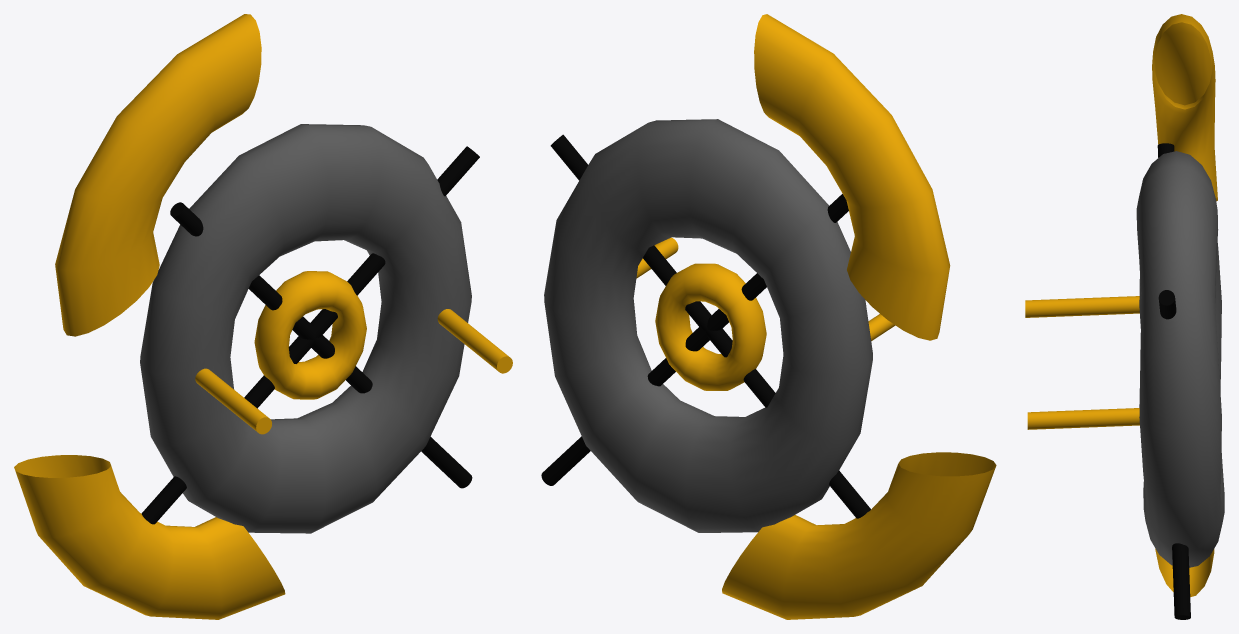
3 renders of one model, left to right at view 1: azimuth 30°, elevation 25°; view 2: azimuth 150°, elevation 25°; view 3: azimuth 270°, elevation 25°, orthographic. The views are drawn at different scales.
Visible parts, largest first — view 1: pTorus2, pTorus3, pTorus4, pTorus1, pCylinder2, pCylinder1, polySurface3, polySurface3.001; view 2: pTorus2, pTorus3, pTorus4, pTorus1, pCylinder2, pCylinder1; view 3: pTorus2, pTorus3, polySurface3, polySurface3.001, pCylinder1, pTorus4, pCylinder2.
Part boxes in pixels (x1,y1,x2,y2): pTorus2: [140, 124, 471, 533]; pTorus3: [55, 14, 261, 336]; pTorus4: [14, 455, 285, 619]; pTorus1: [254, 271, 366, 399]; pCylinder2: [141, 146, 479, 524]; pCylinder1: [170, 202, 472, 488]; polySurface3: [195, 368, 271, 434]; polySurface3.001: [437, 309, 512, 373]; pTorus2: [544, 119, 872, 532]; pTorus3: [754, 14, 950, 340]; pTorus4: [722, 452, 996, 619]; pTorus1: [655, 263, 766, 390]; pCylinder2: [550, 134, 870, 518]; pCylinder1: [541, 194, 848, 485]; pTorus2: [1136, 151, 1224, 567]; pTorus3: [1152, 14, 1217, 201]; polySurface3: [1025, 296, 1139, 317]; polySurface3.001: [1027, 408, 1139, 429]; pCylinder1: [1157, 143, 1190, 619]; pTorus4: [1155, 548, 1214, 596]; pCylinder2: [1158, 290, 1176, 319].
Bounding box in the file's own units: 19.91 × 25.04 × 7.94.
